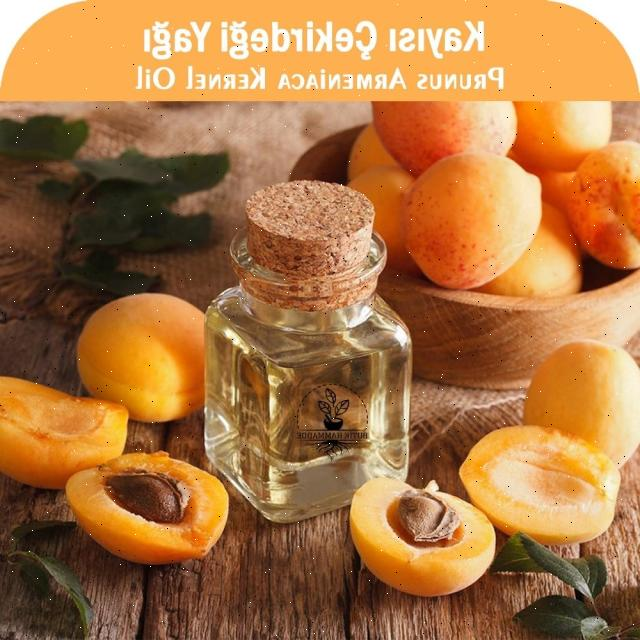Cekirdek: (106, 472, 184, 524), (399, 488, 460, 541)
Kayisi: (460, 426, 620, 544), (403, 154, 541, 289), (66, 452, 228, 564), (351, 479, 495, 596), (78, 294, 204, 422), (524, 341, 640, 468)
